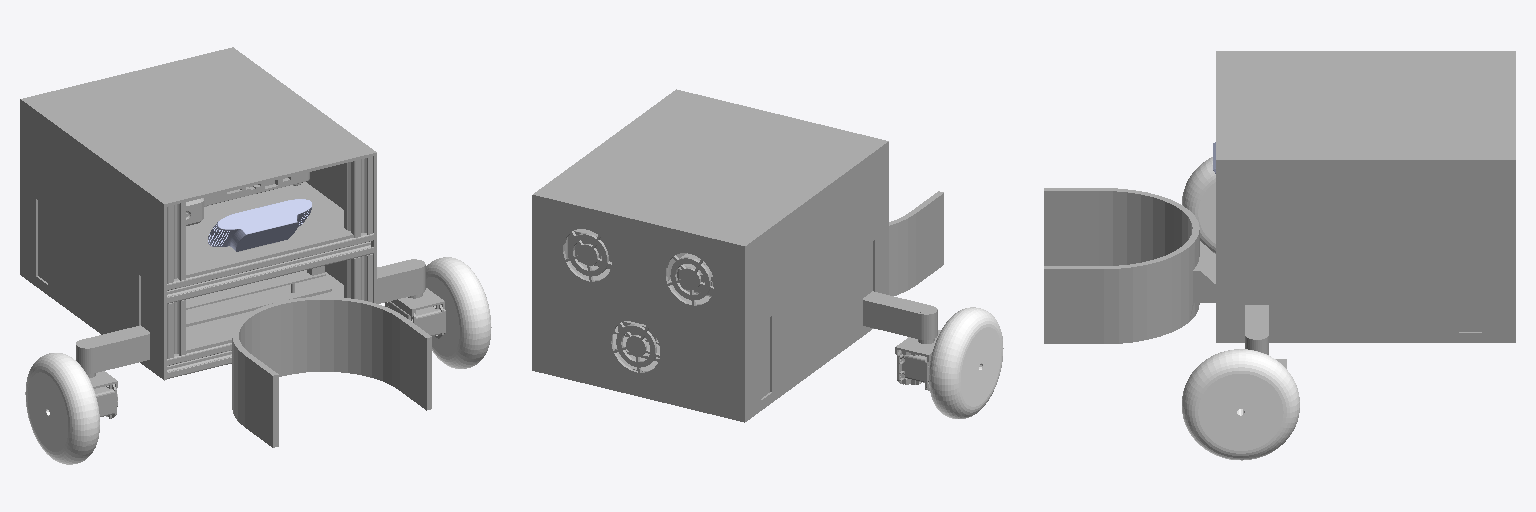
robot.urdf — 0517:
<?xml version="1.0" encoding="utf-8"?>
<!-- This URDF was automatically created by SolidWorks to URDF Exporter! Originally created by [author] ([email redacted]) 
     Commit Version: 1.5.1-0-g916b5db  Build Version: 1.5.7152.31018
     For more information, please see http://wiki.ros.org/sw_urdf_exporter -->
<robot
  name="0517">
  <link
    name="Body">
    <inertial>
      <origin
        xyz="0.10889 0.058557 -0.14231"
        rpy="0 0 0" />
      <mass
        value="5.3249" />
      <inertia
        ixx="0.021938"
        ixy="-4.0175E-06"
        ixz="-1.4798E-06"
        iyy="0.023203"
        iyz="-7.8034E-06"
        izz="0.014905" />
    </inertial>
    <visual>
      <origin
        xyz="0 0 0"
        rpy="0 0 0" />
      <geometry>
        <mesh
          filename="package://0517/meshes/Body.STL" />
      </geometry>
      <material
        name="">
        <color
          rgba="0.75294 0.75294 0.75294 1" />
      </material>
    </visual>
    <collision>
      <origin
        xyz="0 0 0"
        rpy="0 0 0" />
      <geometry>
        <mesh
          filename="package://0517/meshes/Body.STL" />
      </geometry>
    </collision>
  </link>
  <link
    name="LFS">
    <inertial>
      <origin
        xyz="0.066688 -0.025617 0.027258"
        rpy="0 0 0" />
      <mass
        value="0.26437" />
      <inertia
        ixx="3.2075E-05"
        ixy="-1.4412E-07"
        ixz="-6.3085E-08"
        iyy="6.227E-05"
        iyz="-2.0189E-07"
        izz="6.2852E-05" />
    </inertial>
    <visual>
      <origin
        xyz="0 0 0"
        rpy="0 0 0" />
      <geometry>
        <mesh
          filename="package://0517/meshes/LFS.STL" />
      </geometry>
      <material
        name="">
        <color
          rgba="0.75294 0.75294 0.75294 1" />
      </material>
    </visual>
    <collision>
      <origin
        xyz="0 0 0"
        rpy="0 0 0" />
      <geometry>
        <mesh
          filename="package://0517/meshes/LFS.STL" />
      </geometry>
    </collision>
  </link>
  <joint
    name="LFS"
    type="prismatic">
    <origin
      xyz="0.31516 0.050812 0.026427"
      rpy="2.834 0 3.1416" />
    <parent
      link="Body" />
    <child
      link="LFS" />
    <axis
      xyz="0 0.3028 -0.95305" />
    <limit
      lower="0"
      upper="0"
      effort="0"
      velocity="0" />
  </joint>
  <link
    name="LFW">
    <inertial>
      <origin
        xyz="-0.008411 -6.9389E-18 0"
        rpy="0 0 0" />
      <mass
        value="0.21405" />
      <inertia
        ixx="0.00024438"
        ixy="-8.7843E-22"
        ixz="1.5703E-21"
        iyy="0.00013645"
        iyz="-1.3553E-20"
        izz="0.00013645" />
    </inertial>
    <visual>
      <origin
        xyz="0 0 0"
        rpy="0 0 0" />
      <geometry>
        <mesh
          filename="package://0517/meshes/LFW.STL" />
      </geometry>
      <material
        name="">
        <color
          rgba="1 1 1 1" />
      </material>
    </visual>
    <collision>
      <origin
        xyz="0 0 0"
        rpy="0 0 0" />
      <geometry>
        <mesh
          filename="package://0517/meshes/LFW.STL" />
      </geometry>
    </collision>
  </link>
  <joint
    name="LFW"
    type="continuous">
    <origin
      xyz="0 -0.047479 0.052309"
      rpy="-2.4847 0 3.1416" />
    <parent
      link="LFS" />
    <child
      link="LFW" />
    <axis
      xyz="1 0 0" />
    <limit
      effort="3.1"
      velocity="7" />
  </joint>
  <link
    name="RFS">
    <inertial>
      <origin
        xyz="0.072447 -0.031683 0.02534"
        rpy="0 0 0" />
      <mass
        value="0.26437" />
      <inertia
        ixx="3.2075E-05"
        ixy="1.4412E-07"
        ixz="6.3085E-08"
        iyy="6.227E-05"
        iyz="-2.0189E-07"
        izz="6.2852E-05" />
    </inertial>
    <visual>
      <origin
        xyz="0 0 0"
        rpy="0 0 0" />
      <geometry>
        <mesh
          filename="package://0517/meshes/RFS.STL" />
      </geometry>
      <material
        name="">
        <color
          rgba="0.75294 0.75294 0.75294 1" />
      </material>
    </visual>
    <collision>
      <origin
        xyz="0 0 0"
        rpy="0 0 0" />
      <geometry>
        <mesh
          filename="package://0517/meshes/RFS.STL" />
      </geometry>
    </collision>
  </link>
  <joint
    name="RFS"
    type="prismatic">
    <origin
      xyz="-0.10492 0.012128 0.026427"
      rpy="2.834 0 0" />
    <parent
      link="Body" />
    <child
      link="RFS" />
    <axis
      xyz="0 0.3028 -0.95305" />
    <limit
      lower="0"
      upper="0"
      effort="0"
      velocity="0" />
  </joint>
  <link
    name="RFW">
    <inertial>
      <origin
        xyz="-0.014171 0 0"
        rpy="0 0 0" />
      <mass
        value="0.21405" />
      <inertia
        ixx="0.00024438"
        ixy="7.438E-22"
        ixz="-2.9693E-21"
        iyy="0.00013645"
        iyz="0"
        izz="0.00013645" />
    </inertial>
    <visual>
      <origin
        xyz="0 0 0"
        rpy="0 0 0" />
      <geometry>
        <mesh
          filename="package://0517/meshes/RFW.STL" />
      </geometry>
      <material
        name="">
        <color
          rgba="1 1 1 1" />
      </material>
    </visual>
    <collision>
      <origin
        xyz="0 0 0"
        rpy="0 0 0" />
      <geometry>
        <mesh
          filename="package://0517/meshes/RFW.STL" />
      </geometry>
    </collision>
  </link>
  <joint
    name="RFW"
    type="continuous">
    <origin
      xyz="0 -0.028286 0.058405"
      rpy="-0.36547 0 3.1416" />
    <parent
      link="RFS" />
    <child
      link="RFW" />
    <axis
      xyz="-1 0 0" />
    <limit
      effort="3.1"
      velocity="7" />
  </joint>
  <link
    name="LBS">
    <inertial>
      <origin
        xyz="0.075402 -0.020601 0.012626"
        rpy="0 0 0" />
      <mass
        value="0.19701" />
      <inertia
        ixx="1.688E-05"
        ixy="-4.8069E-21"
        ixz="2.2036E-20"
        iyy="5.0218E-05"
        iyz="1.0509E-06"
        izz="4.7245E-05" />
    </inertial>
    <visual>
      <origin
        xyz="0 0 0"
        rpy="0 0 0" />
      <geometry>
        <mesh
          filename="package://0517/meshes/LBS.STL" />
      </geometry>
      <material
        name="">
        <color
          rgba="0.75294 0.75294 0.75294 1" />
      </material>
    </visual>
    <collision>
      <origin
        xyz="0 0 0"
        rpy="0 0 0" />
      <geometry>
        <mesh
          filename="package://0517/meshes/LBS.STL" />
      </geometry>
    </collision>
  </link>
  <joint
    name="LBS"
    type="prismatic">
    <origin
      xyz="0.31516 0.23081 0.01777"
      rpy="2.834 0 3.1416" />
    <parent
      link="Body" />
    <child
      link="LBS" />
    <axis
      xyz="0 0.3028 -0.95305" />
    <limit
      lower="0"
      upper="0"
      effort="0"
      velocity="0" />
  </joint>
  <link
    name="LBC">
    <inertial>
      <origin
        xyz="3.6952E-07 -0.041409 0"
        rpy="0 0 0" />
      <mass
        value="0.022754" />
      <inertia
        ixx="9.8996E-06"
        ixy="2.3871E-10"
        ixz="-4.3943E-22"
        iyy="3.7156E-06"
        iyz="3.686E-22"
        izz="1.0825E-05" />
    </inertial>
    <visual>
      <origin
        xyz="0 0 0"
        rpy="0 0 0" />
      <geometry>
        <mesh
          filename="package://0517/meshes/LBC.STL" />
      </geometry>
      <material
        name="">
        <color
          rgba="0.79216 0.81961 0.93333 1" />
      </material>
    </visual>
    <collision>
      <origin
        xyz="0 0 0"
        rpy="0 0 0" />
      <geometry>
        <mesh
          filename="package://0517/meshes/LBC.STL" />
      </geometry>
    </collision>
  </link>
  <joint
    name="LBC"
    type="continuous">
    <origin
      xyz="0.041161 -0.016816 0.00071326"
      rpy="-1.8784 0 3.1416" />
    <parent
      link="LBS" />
    <child
      link="LBC" />
    <axis
      xyz="0 1 0" />
  </joint>
  <link
    name="LBW">
    <inertial>
      <origin
        xyz="-1.2669E-05 0 0"
        rpy="0 0 0" />
      <mass
        value="0.052036" />
      <inertia
        ixx="2.1966E-05"
        ixy="-1.0033E-21"
        ixz="1.1349E-21"
        iyy="1.254E-05"
        iyz="0"
        izz="1.254E-05" />
    </inertial>
    <visual>
      <origin
        xyz="0 0 0"
        rpy="0 0 0" />
      <geometry>
        <mesh
          filename="package://0517/meshes/LBW.STL" />
      </geometry>
      <material
        name="">
        <color
          rgba="1 1 1 1" />
      </material>
    </visual>
    <collision>
      <origin
        xyz="0 0 0"
        rpy="0 0 0" />
      <geometry>
        <mesh
          filename="package://0517/meshes/LBW.STL" />
      </geometry>
    </collision>
  </link>
  <joint
    name="LBW"
    type="continuous">
    <origin
      xyz="0 -0.0698 0"
      rpy="-2.9677 0 0" />
    <parent
      link="LBC" />
    <child
      link="LBW" />
    <axis
      xyz="1 0 0" />
    <limit
      effort="3.1"
      velocity="7" />
  </joint>
  <link
    name="RBS">
    <inertial>
      <origin
        xyz="0.075402 -0.020601 0.012626"
        rpy="0 0 0" />
      <mass
        value="0.19701" />
      <inertia
        ixx="1.688E-05"
        ixy="1.0291E-20"
        ixz="-2.4349E-20"
        iyy="5.0218E-05"
        iyz="1.0509E-06"
        izz="4.7245E-05" />
    </inertial>
    <visual>
      <origin
        xyz="0 0 0"
        rpy="0 0 0" />
      <geometry>
        <mesh
          filename="package://0517/meshes/RBS.STL" />
      </geometry>
      <material
        name="">
        <color
          rgba="0.75294 0.75294 0.75294 1" />
      </material>
    </visual>
    <collision>
      <origin
        xyz="0 0 0"
        rpy="0 0 0" />
      <geometry>
        <mesh
          filename="package://0517/meshes/RBS.STL" />
      </geometry>
    </collision>
  </link>
  <joint
    name="RBS"
    type="prismatic">
    <origin
      xyz="-0.099161 0.19919 0.01777"
      rpy="2.834 0 0" />
    <parent
      link="Body" />
    <child
      link="RBS" />
    <axis
      xyz="0 0.3028 -0.95305" />
    <limit
      lower="0"
      upper="0"
      effort="0"
      velocity="0" />
  </joint>
  <link
    name="RBC">
    <inertial>
      <origin
        xyz="3.6952E-07 -0.041409 -2.7756E-17"
        rpy="0 0 0" />
      <mass
        value="0.022754" />
      <inertia
        ixx="9.8996E-06"
        ixy="2.3871E-10"
        ixz="5.294E-22"
        iyy="3.7156E-06"
        iyz="-1.0282E-21"
        izz="1.0825E-05" />
    </inertial>
    <visual>
      <origin
        xyz="0 0 0"
        rpy="0 0 0" />
      <geometry>
        <mesh
          filename="package://0517/meshes/RBC.STL" />
      </geometry>
      <material
        name="">
        <color
          rgba="0.79216 0.81961 0.93333 1" />
      </material>
    </visual>
    <collision>
      <origin
        xyz="0 0 0"
        rpy="0 0 0" />
      <geometry>
        <mesh
          filename="package://0517/meshes/RBC.STL" />
      </geometry>
    </collision>
  </link>
  <joint
    name="RBC"
    type="continuous">
    <origin
      xyz="0.041161 -0.016816 0.00071326"
      rpy="-1.2632 0.0048755 -0.015346" />
    <parent
      link="RBS" />
    <child
      link="RBC" />
    <axis
      xyz="0 1 0" />
  </joint>
  <link
    name="RBW">
    <inertial>
      <origin
        xyz="-1.2669E-05 0 0"
        rpy="0 0 0" />
      <mass
        value="0.052036" />
      <inertia
        ixx="2.1966E-05"
        ixy="2.1176E-22"
        ixz="1.1779E-21"
        iyy="1.254E-05"
        iyz="-1.2705E-21"
        izz="1.254E-05" />
    </inertial>
    <visual>
      <origin
        xyz="0 0 0"
        rpy="0 0 0" />
      <geometry>
        <mesh
          filename="package://0517/meshes/RBW.STL" />
      </geometry>
      <material
        name="">
        <color
          rgba="1 1 1 1" />
      </material>
    </visual>
    <collision>
      <origin
        xyz="0 0 0"
        rpy="0 0 0" />
      <geometry>
        <mesh
          filename="package://0517/meshes/RBW.STL" />
      </geometry>
    </collision>
  </link>
  <joint
    name="RBW"
    type="continuous">
    <origin
      xyz="0 -0.0698 0"
      rpy="-0.70587 0 -3.1416" />
    <parent
      link="RBC" />
    <child
      link="RBW" />
    <axis
      xyz="-1 0 0" />
    <limit
      effort="3.1"
      velocity="7" />
  </joint>
  <link
    name="front_cam">
    <inertial>
      <origin
        xyz="0.049836 0.061784 0.068723"
        rpy="0 0 0" />
      <mass
        value="0.043612" />
      <inertia
        ixx="4.2948E-06"
        ixy="-8.8579E-10"
        ixz="-1.0181E-09"
        iyy="2.2106E-05"
        iyz="2.1758E-08"
        izz="2.3571E-05" />
    </inertial>
    <visual>
      <origin
        xyz="0 0 0"
        rpy="0 0 0" />
      <geometry>
        <mesh
          filename="package://0517/meshes/front_cam.STL" />
      </geometry>
      <material
        name="">
        <color
          rgba="0.79216 0.81961 0.93333 1" />
      </material>
    </visual>
    <collision>
      <origin
        xyz="0 0 0"
        rpy="0 0 0" />
      <geometry>
        <mesh
          filename="package://0517/meshes/front_cam.STL" />
      </geometry>
    </collision>
  </link>
  <joint
    name="front_cam"
    type="fixed">
    <origin
      xyz="0.058161 0.080278 0.069504"
      rpy="1.5708 0 0" />
    <parent
      link="Body" />
    <child
      link="front_cam" />
    <axis
      xyz="0 0 0" />
  </joint>
  <link
    name="ball_cam">
    <inertial>
      <origin
        xyz="0.049836 0.061784 -0.0037462"
        rpy="0 0 0" />
      <mass
        value="0.043612" />
      <inertia
        ixx="4.2948E-06"
        ixy="-8.8526E-10"
        ixz="-1.0184E-09"
        iyy="2.2106E-05"
        iyz="2.1758E-08"
        izz="2.3571E-05" />
    </inertial>
    <visual>
      <origin
        xyz="0 0 0"
        rpy="0 0 0" />
      <geometry>
        <mesh
          filename="package://0517/meshes/ball_cam.STL" />
      </geometry>
      <material
        name="">
        <color
          rgba="0.79216 0.81961 0.93333 1" />
      </material>
    </visual>
    <collision>
      <origin
        xyz="0 0 0"
        rpy="0 0 0" />
      <geometry>
        <mesh
          filename="package://0517/meshes/ball_cam.STL" />
      </geometry>
    </collision>
  </link>
  <joint
    name="ball_cam"
    type="fixed">
    <origin
      xyz="0.058165 0.048961 0.044286"
      rpy="2.2021 0 0" />
    <parent
      link="Body" />
    <child
      link="ball_cam" />
    <axis
      xyz="0 0 0" />
  </joint>
  <link
    name="Lidar">
    <inertial>
      <origin
        xyz="-0.078493 -0.74443 -0.13345"
        rpy="0 0 0" />
      <mass
        value="0.073085" />
      <inertia
        ixx="1.9581E-05"
        ixy="4.2839E-07"
        ixz="-1.0393E-07"
        iyy="4.1418E-05"
        iyz="-9.4271E-09"
        izz="2.4125E-05" />
    </inertial>
    <visual>
      <origin
        xyz="0 0 0"
        rpy="0 0 0" />
      <geometry>
        <mesh
          filename="package://0517/meshes/Lidar.STL" />
      </geometry>
      <material
        name="">
        <color
          rgba="0.79216 0.81961 0.93333 1" />
      </material>
    </visual>
    <collision>
      <origin
        xyz="0 0 0"
        rpy="0 0 0" />
      <geometry>
        <mesh
          filename="package://0517/meshes/Lidar.STL" />
      </geometry>
    </collision>
  </link>
  <joint
    name="Lidar"
    type="fixed">
    <origin
      xyz="0.24092 0.098561 -0.57169"
      rpy="-1.5708 0 -1.5708" />
    <parent
      link="Body" />
    <child
      link="Lidar" />
    <axis
      xyz="0 0 0" />
  </joint>
</robot>

--- Facts derived from the render (not from the file) ---
Views: 3 orthographic renders of the robot side by side, from view 1: azimuth 30°, elevation 25°; view 2: azimuth 150°, elevation 25°; view 3: azimuth 270°, elevation 25°.
Model 0517 with 14 links and 13 joints (6 continuous, 4 prismatic, 3 fixed), rooted at Body, posed every joint at zero.
Visible links, largest first — view 1: Body, RFW, LFW, RFS, LFS, ball_cam; view 2: Body, RFW, RFS; view 3: Body, LFW, RFW, LFS.
Link boxes in pixels (x1,y1,x2,y2): Body: (20,47,431,447); RFW: (25,353,99,464); LFW: (426,257,491,368); RFS: (76,325,149,418); LFS: (377,259,445,338); ball_cam: (208,199,311,251); Body: (532,89,943,422); RFW: (929,307,1003,418); RFS: (863,291,940,390); Body: (1044,51,1515,343); LFW: (1182,349,1299,460); RFW: (1182,157,1215,253); LFS: (1245,305,1286,368).
Bounding box of the posed robot: 0.4275 × 0.3973 × 0.2358 m (x, y, z).
6 mesh visuals loaded from 14 distinct referenced files (6 binary STL); not drawn: 8 (reference not matched to a file when rendering).